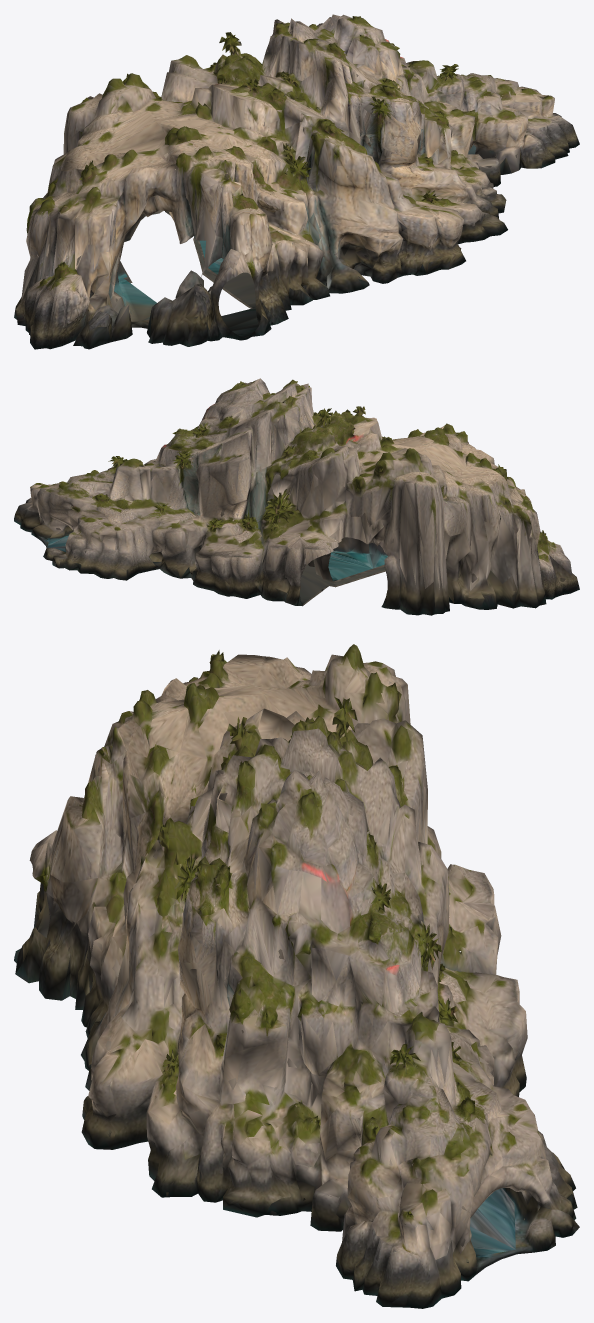
The model's file is headland.glb.
3 renders of one model, top to bottom at view 1: azimuth 30°, elevation 25°; view 2: azimuth 150°, elevation 25°; view 3: azimuth 270°, elevation 25°, orthographic. The views are drawn at different scales.
Visible parts, largest first — view 1: Headland_detail_LOD0; view 2: Headland_detail_LOD0; view 3: Headland_detail_LOD0.
Boxes of the visible parts, left/top/right/bottom form: Headland_detail_LOD0: left=14, top=14, right=579, bottom=349; Headland_detail_LOD0: left=14, top=378, right=579, bottom=615; Headland_detail_LOD0: left=14, top=644, right=579, bottom=1308.
Size of what is drawn, in the model's own units: 260 by 86.46 by 130.
Materials: 1 (1 with a texture image).
